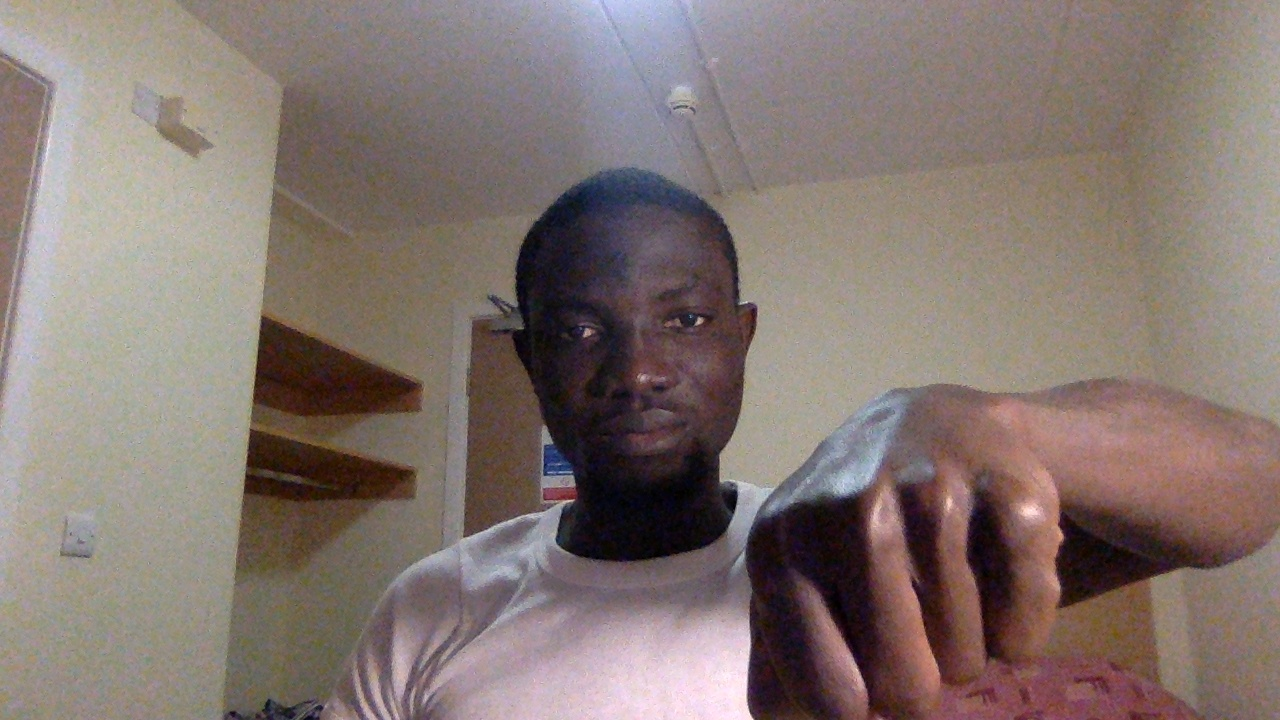Yes: (736, 364, 1074, 720)
